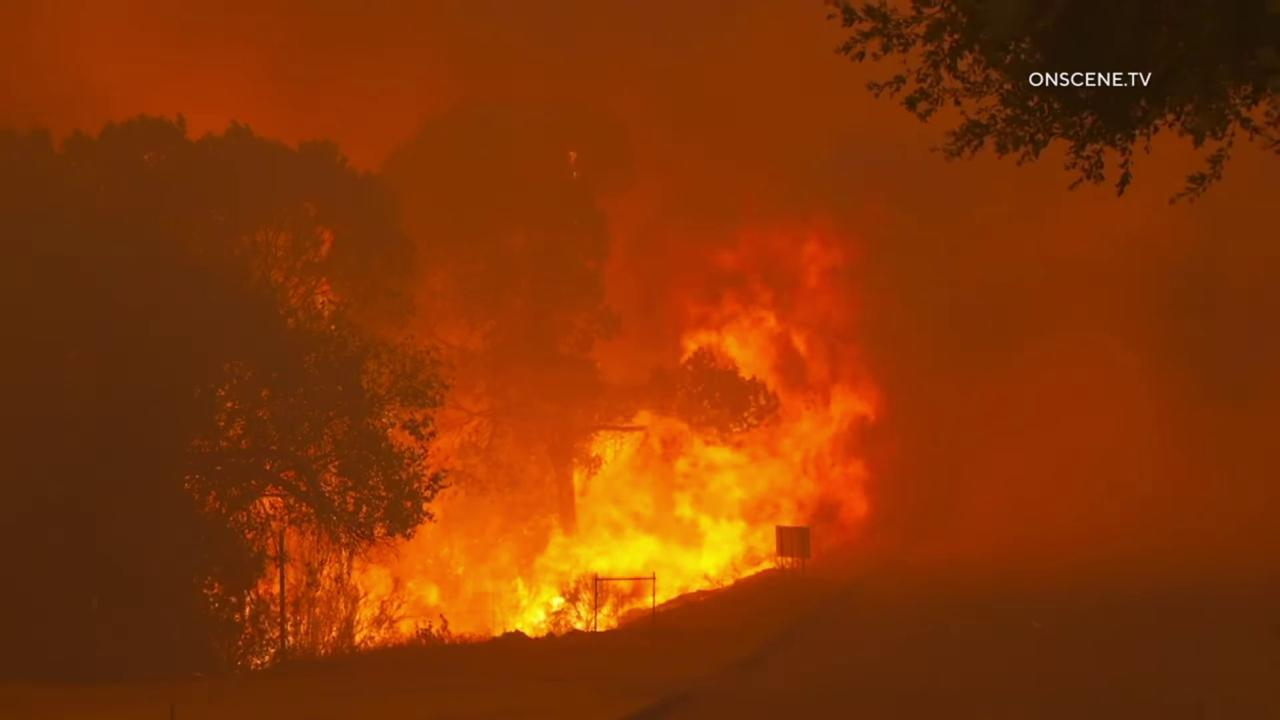fire: (222, 202, 880, 671)
smoke: (0, 0, 1280, 720)
